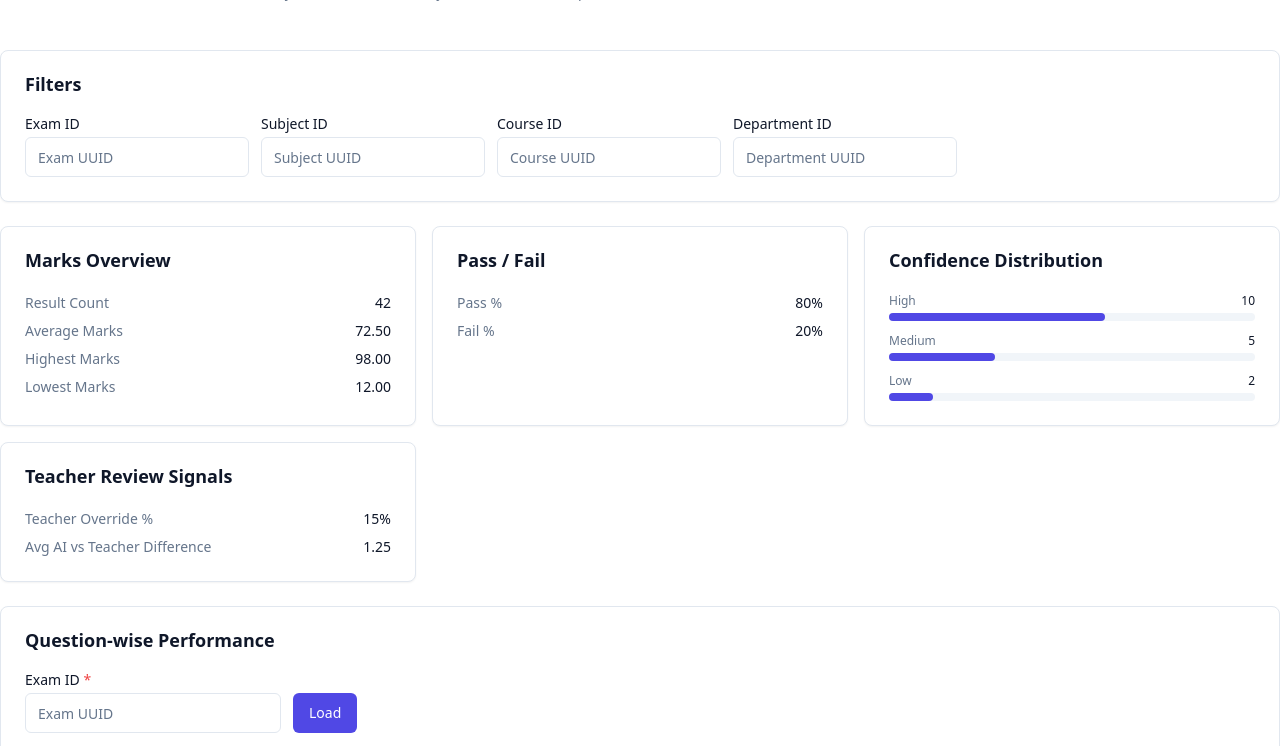
AnalyticsDashboardPage › loads question-wise analytics for an exam id and renders both tables
Check: the heading "Marks Overview" is shown, box 25,248 -> 171,272
Type "exam-456" into the field labelled "Exam ID *". click: (153, 713)
box: 25,693 -> 281,733
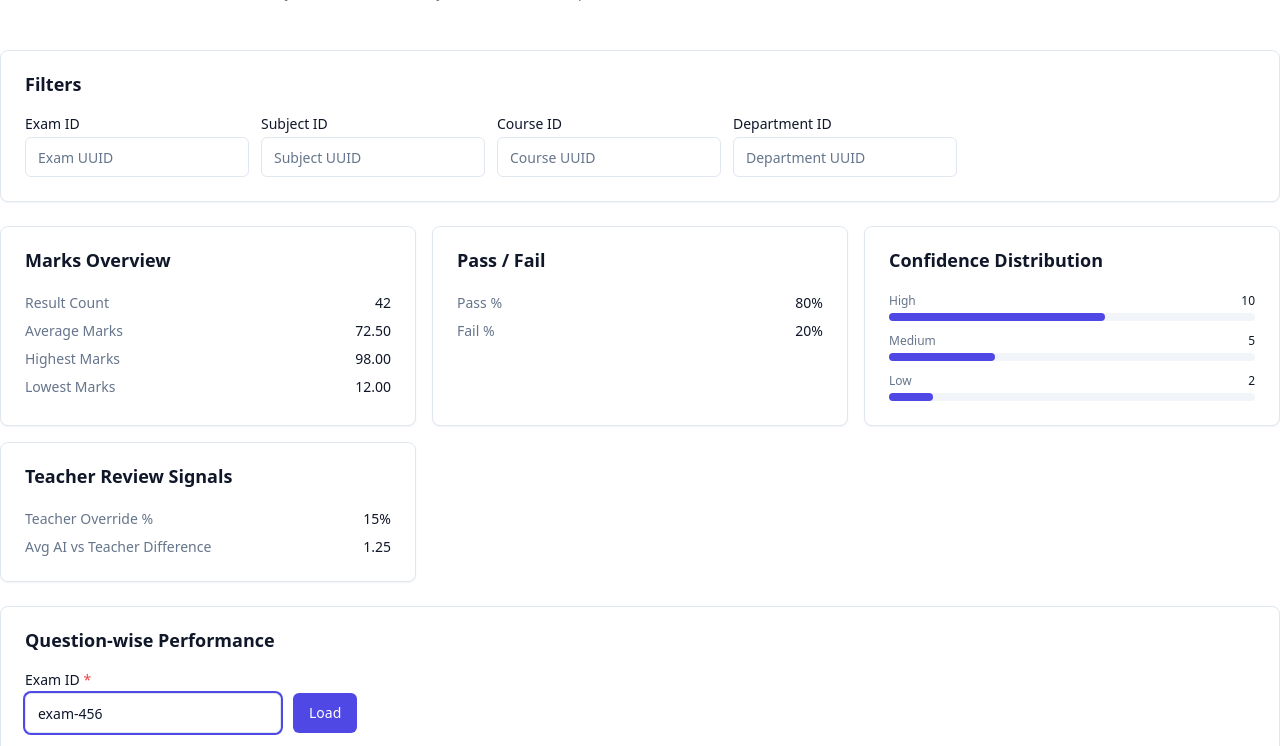
Click the button "Load". click: (325, 713)
box: 293,693 -> 357,733
(page scrolled)
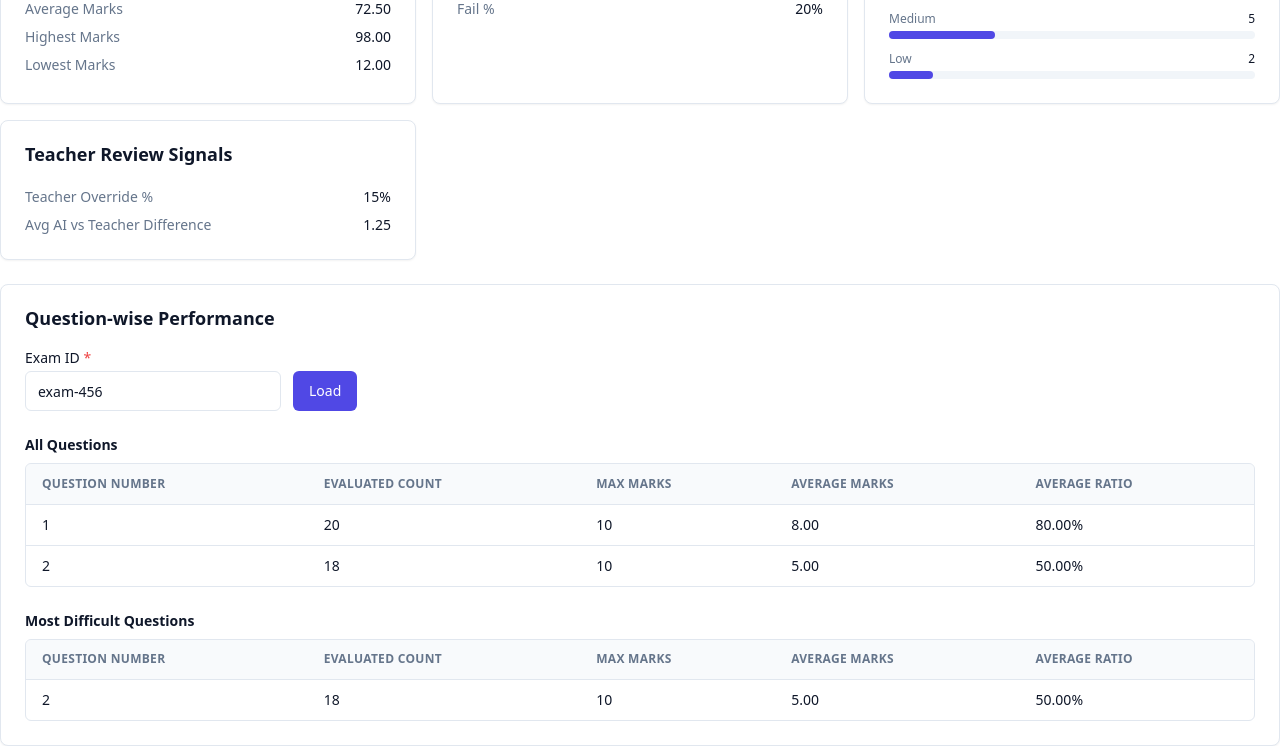
Check: the heading "All Questions" is shown, box 25,435 -> 118,454
Check: the heading "Most Difficult Questions" is shown, box 25,610 -> 194,630
Check: the text "1" is shown, box 26,504 -> 308,545
